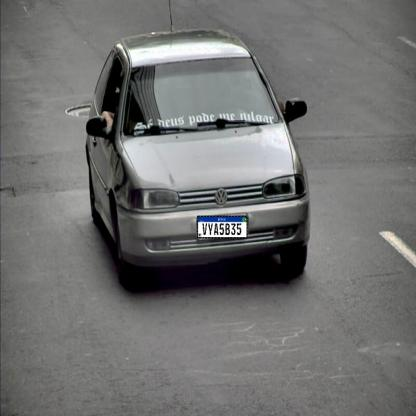PlacaM: (197, 216, 248, 238)
